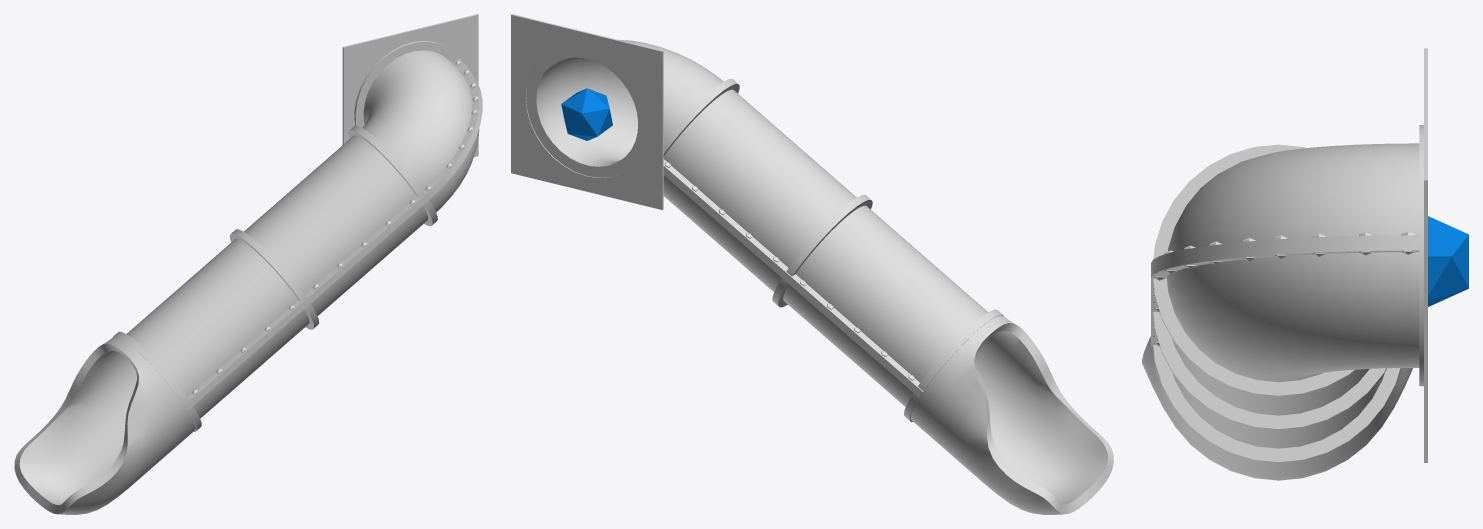
Rendered from Sidewinder 5' R.glb.
3 renders of one model, left to right at view 1: azimuth 30°, elevation 25°; view 2: azimuth 150°, elevation 25°; view 3: azimuth 270°, elevation 25°, orthographic. The views are drawn at different scales.
Visible parts, largest first — view 1: Side winder slide.003; view 2: Side winder slide.003, Joint.047; view 3: Side winder slide.003, Joint.047.
Boxes of the visible parts, x1=… form: Side winder slide.003: x1=14, y1=14, x2=482, y2=514; Side winder slide.003: x1=511, y1=14, x2=1113, y2=514; Joint.047: x1=561, y1=88, x2=612, y2=140; Side winder slide.003: x1=1142, y1=48, x2=1427, y2=480; Joint.047: x1=1428, y1=216, x2=1468, y2=306.
Bounding box in the file's own units: 3.21 × 2.32 × 0.9577.
